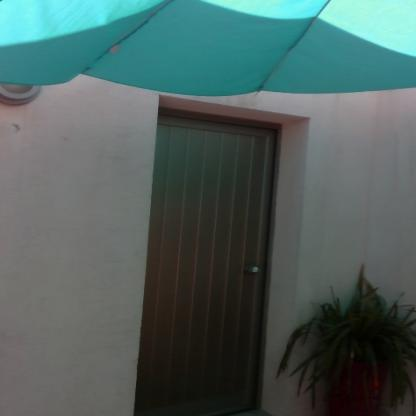door: (157, 119, 265, 416)
knob: (249, 263, 262, 278)
